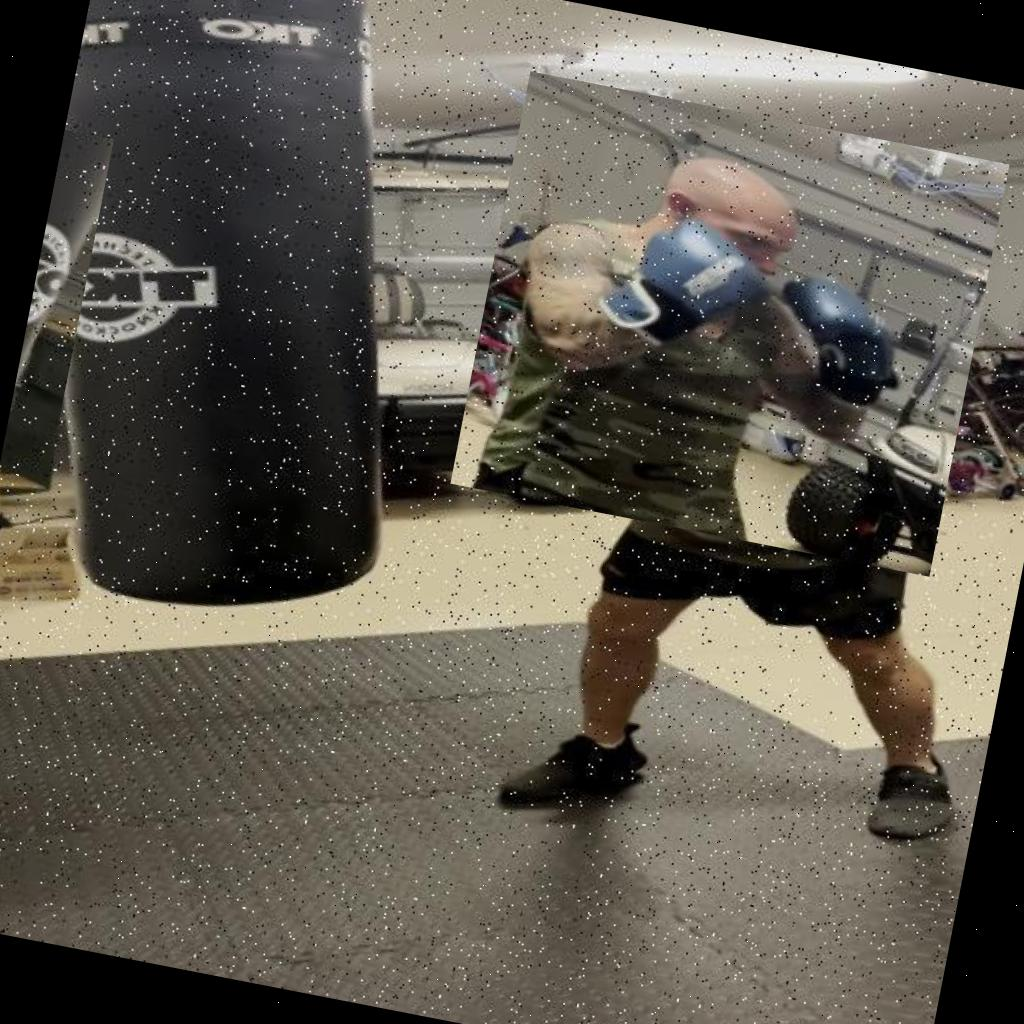cross: (0, 130, 114, 473)
uppercut: (450, 72, 1010, 577)
